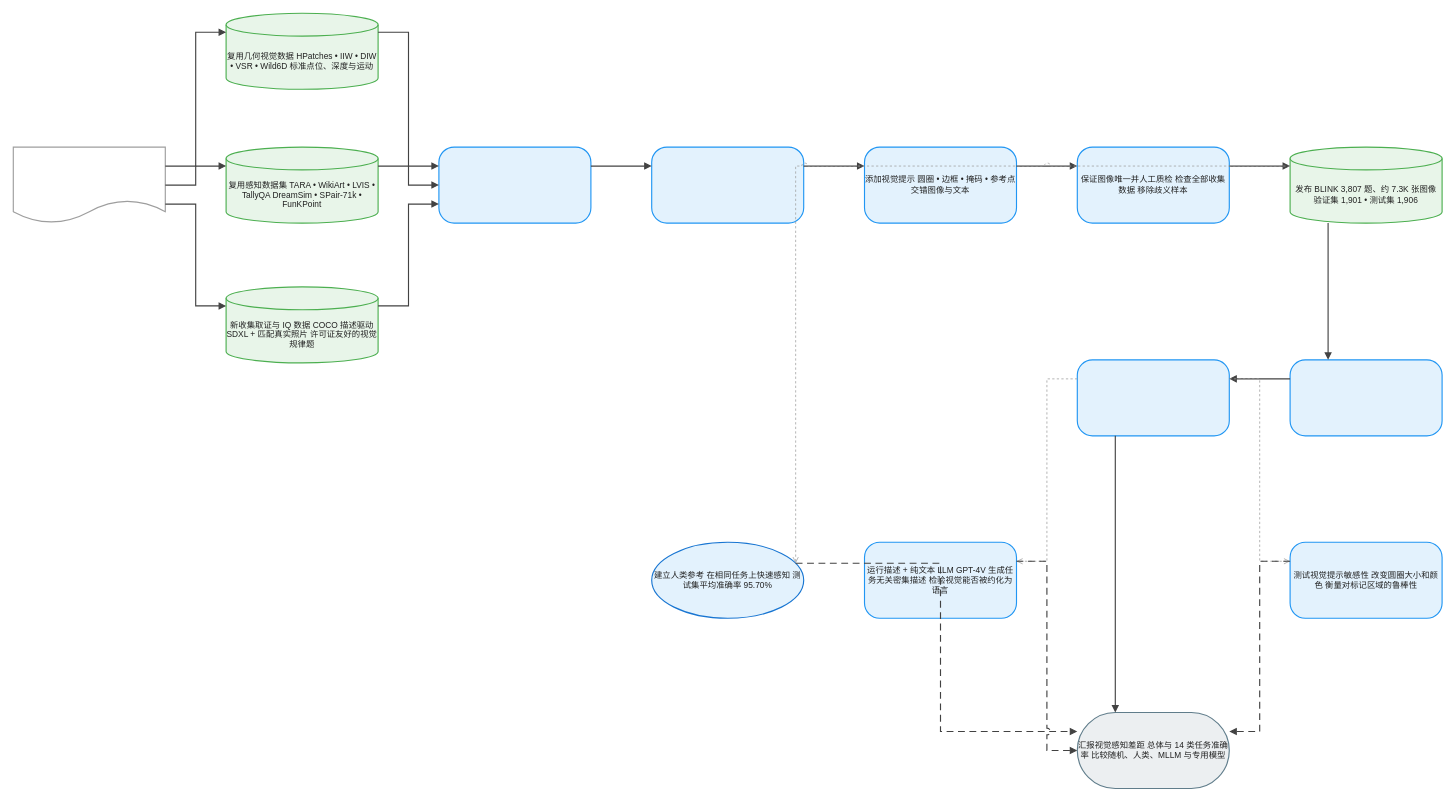
This 1456x803 diagram has some shape labels left out. Each missing label, with the centre of its shape:
把全部任务改写为选择题 单图或多图问题 文本或图像答案选项: point 727,184
提取模型选择 使用预定义解析规则 其余输出交由 GPT-3.5-Turbo 解析: point 1153,397
构造任务特定样本 采样点、帧、框、拼图块与计数 从来源标注推导正确选项: point 514,184
选择 14 类视觉感知任务 像素匹配 • 三维与几何 功能对应 • 相似性 • 视觉常识: point 89,184
配置多模态模型 温度 0 • 最多重试 10 次 不缩放；不支持多图时拼接图像: point 1365,397
